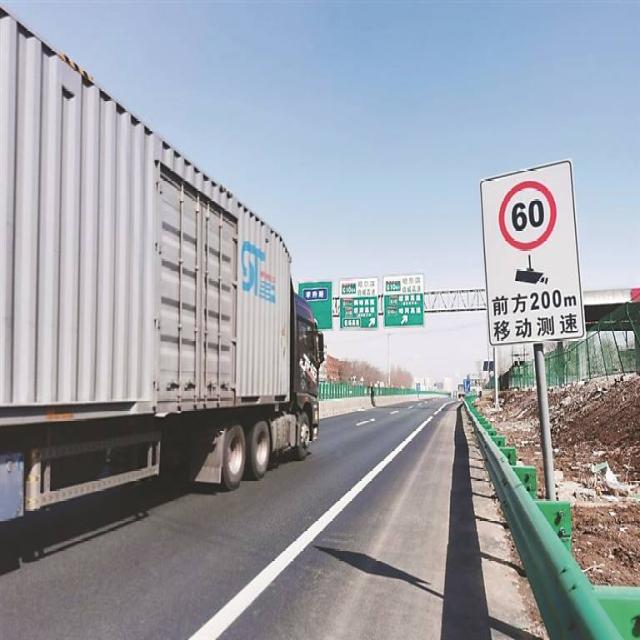speed limit 60: (496, 181, 556, 251)
